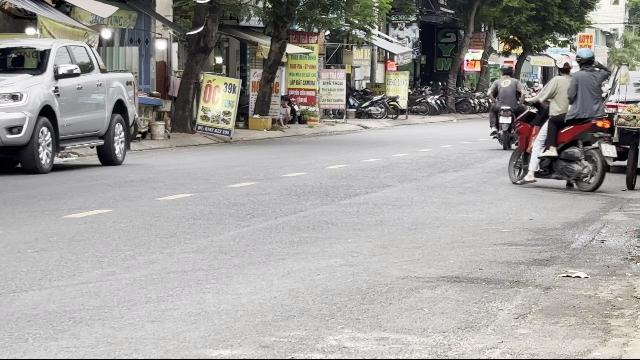helmet: (574, 46, 594, 68), (556, 56, 572, 74)
licenseplate: (601, 144, 617, 156)
motorcyclist: (506, 46, 618, 192)
